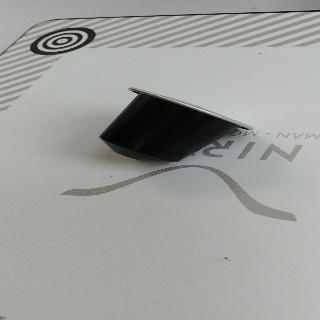capsule_10: (97, 86, 253, 164)
